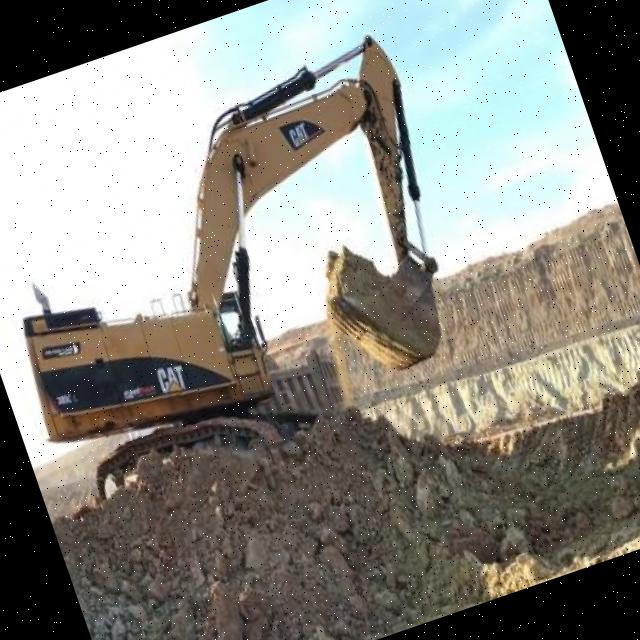Dump Truck: (270, 347, 350, 426)
Excavator: (0, 25, 498, 513)
